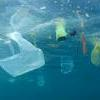Trash: (2, 27, 49, 80)
